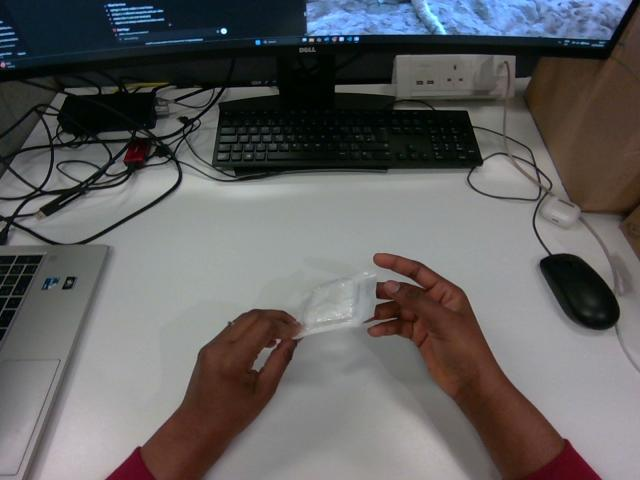gauze: (296, 272, 376, 337)
